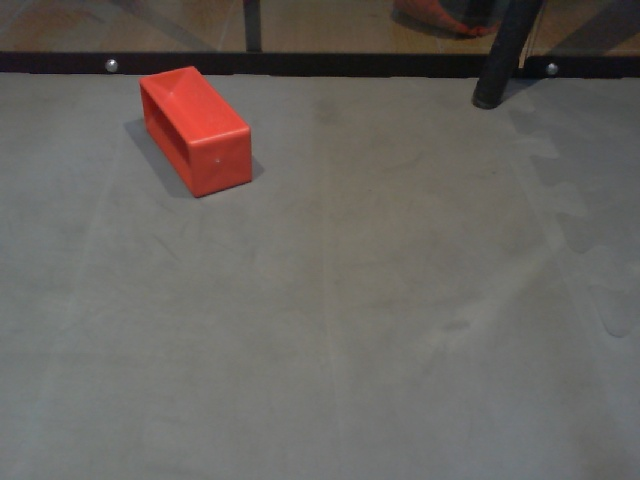RedSample: (139, 62, 255, 200)
